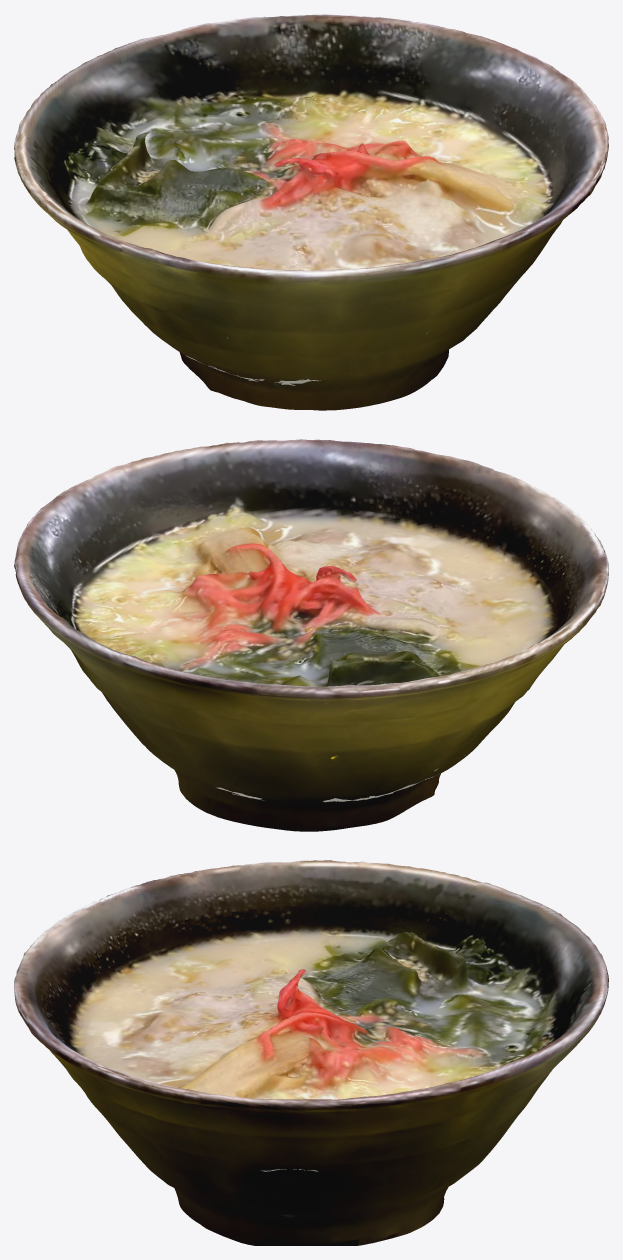
The model's file is ramen.glb.
3 renders of one model, top to bottom at view 1: azimuth 30°, elevation 25°; view 2: azimuth 150°, elevation 25°; view 3: azimuth 270°, elevation 25°, orthographic.
Visible parts, largest first — view 1: Object_5, Object_4, Object_6, Object_7, Object_8, Object_9, Object_10; view 2: Object_4, Object_5, Object_6, Object_7, Object_8, Object_10; view 3: Object_4, Object_6, Object_5, Object_7, Object_8, Object_10, Object_9.
Part boxes in pixels (left/top/right/bottom): Object_5: left=14, top=19, right=608, bottom=410; Object_4: left=15, top=14, right=605, bottom=399; Object_6: left=17, top=16, right=607, bottom=409; Object_7: left=38, top=142, right=430, bottom=409; Object_8: left=14, top=68, right=603, bottom=410; Object_9: left=77, top=74, right=435, bottom=382; Object_10: left=120, top=164, right=394, bottom=396; Object_4: left=14, top=439, right=607, bottom=816; Object_5: left=16, top=441, right=608, bottom=831; Object_6: left=35, top=444, right=604, bottom=829; Object_7: left=88, top=536, right=571, bottom=811; Object_8: left=48, top=440, right=605, bottom=824; Object_10: left=325, top=558, right=605, bottom=765; Object_4: left=14, top=860, right=608, bottom=1232; Object_6: left=14, top=860, right=573, bottom=1245; Object_5: left=15, top=860, right=601, bottom=1244; Object_7: left=87, top=917, right=481, bottom=1245; Object_8: left=52, top=872, right=499, bottom=1243; Object_10: left=115, top=868, right=415, bottom=1186; Object_9: left=175, top=951, right=480, bottom=1193.
Size of the model in its own units: 0.1868 by 0.0759 by 0.1869.
Materials: 26 (26 with a texture image).
